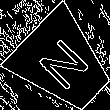N_SE: (32, 32, 95, 96)
